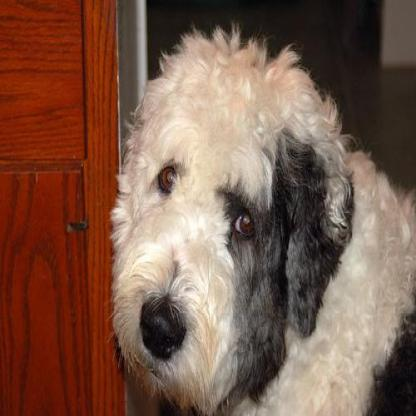Old_English_sheepdog: (110, 24, 414, 413)
